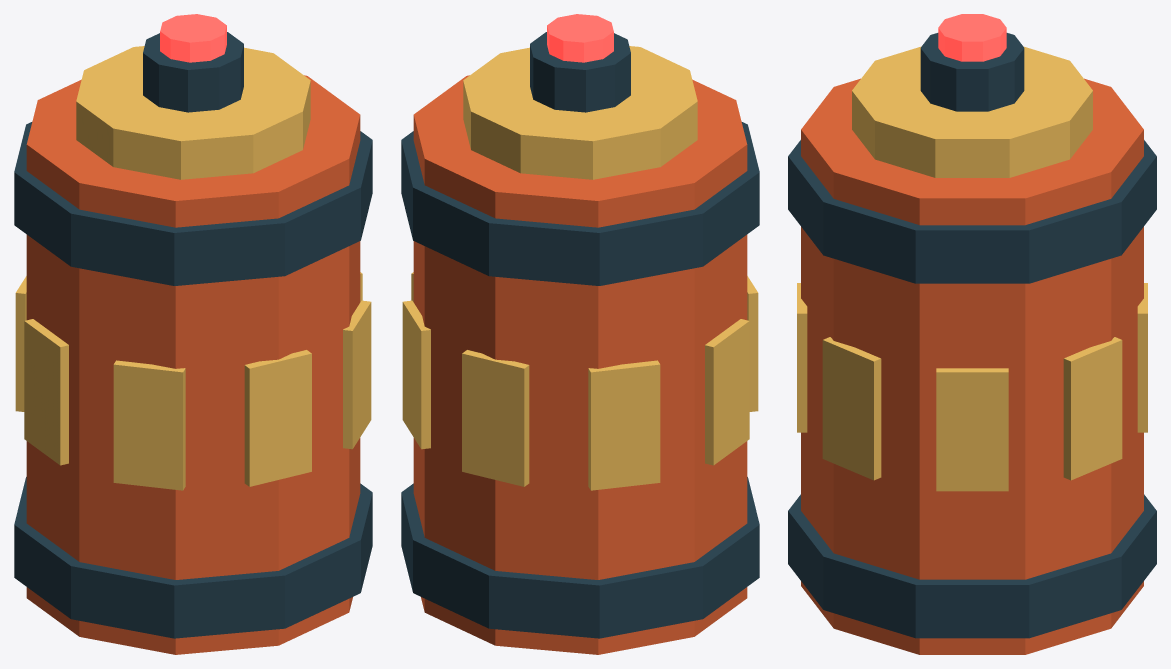
Rendered from column_charge.glb.
3 renders of one model, left to right at view 1: azimuth 30°, elevation 25°; view 2: azimuth 150°, elevation 25°; view 3: azimuth 270°, elevation 25°, orthographic.
Visible parts, largest first — view 1: Orange charge core, Dark retention ring.001, Dark retention ring, Safety cap, Hazard tab.007, Hazard tab, Fuse plug, Hazard tab.006, Hazard tab.001, Red armed lamp, Hazard tab.005; view 2: Orange charge core, Dark retention ring.001, Dark retention ring, Safety cap, Hazard tab.005, Hazard tab.004, Fuse plug, Hazard tab.006, Hazard tab.003, Red armed lamp, Hazard tab.007; view 3: Orange charge core, Dark retention ring, Dark retention ring.001, Safety cap, Hazard tab.002, Hazard tab.001, Hazard tab.003, Fuse plug, Red armed lamp, Hazard tab, Hazard tab.004.
Part boxes in pixels (bbox=[...]): Orange charge core: bbox=[26, 75, 360, 654]; Dark retention ring.001: bbox=[14, 122, 372, 285]; Dark retention ring: bbox=[14, 477, 372, 638]; Safety cap: bbox=[76, 46, 310, 179]; Hazard tab.007: bbox=[113, 360, 185, 490]; Hazard tab: bbox=[244, 350, 311, 486]; Fuse plug: bbox=[143, 32, 243, 112]; Hazard tab.006: bbox=[24, 319, 68, 465]; Hazard tab.001: bbox=[343, 300, 371, 449]; Red armed lamp: bbox=[160, 14, 226, 62]; Hazard tab.005: bbox=[15, 276, 26, 411]; Orange charge core: bbox=[413, 75, 747, 654]; Dark retention ring.001: bbox=[401, 122, 759, 285]; Dark retention ring: bbox=[401, 477, 759, 638]; Safety cap: bbox=[463, 46, 697, 179]; Hazard tab.005: bbox=[588, 360, 660, 490]; Hazard tab.004: bbox=[462, 350, 529, 486]; Fuse plug: bbox=[530, 32, 630, 112]; Hazard tab.006: bbox=[705, 319, 749, 465]; Hazard tab.003: bbox=[402, 300, 430, 449]; Red armed lamp: bbox=[547, 14, 613, 62]; Hazard tab.007: bbox=[747, 276, 758, 411]; Orange charge core: bbox=[801, 78, 1143, 654]; Dark retention ring: bbox=[788, 494, 1156, 638]; Dark retention ring.001: bbox=[788, 140, 1156, 283]; Safety cap: bbox=[852, 46, 1092, 177]; Hazard tab.002: bbox=[936, 368, 1008, 491]; Hazard tab.001: bbox=[822, 337, 881, 480]; Hazard tab.003: bbox=[1063, 337, 1122, 480]; Fuse plug: bbox=[920, 33, 1024, 111]; Red armed lamp: bbox=[938, 14, 1006, 61]; Hazard tab: bbox=[797, 283, 807, 432]; Hazard tab.004: bbox=[1137, 283, 1147, 432].
Bounding box in the file's own units: 0.655 × 1.15 × 0.688.
